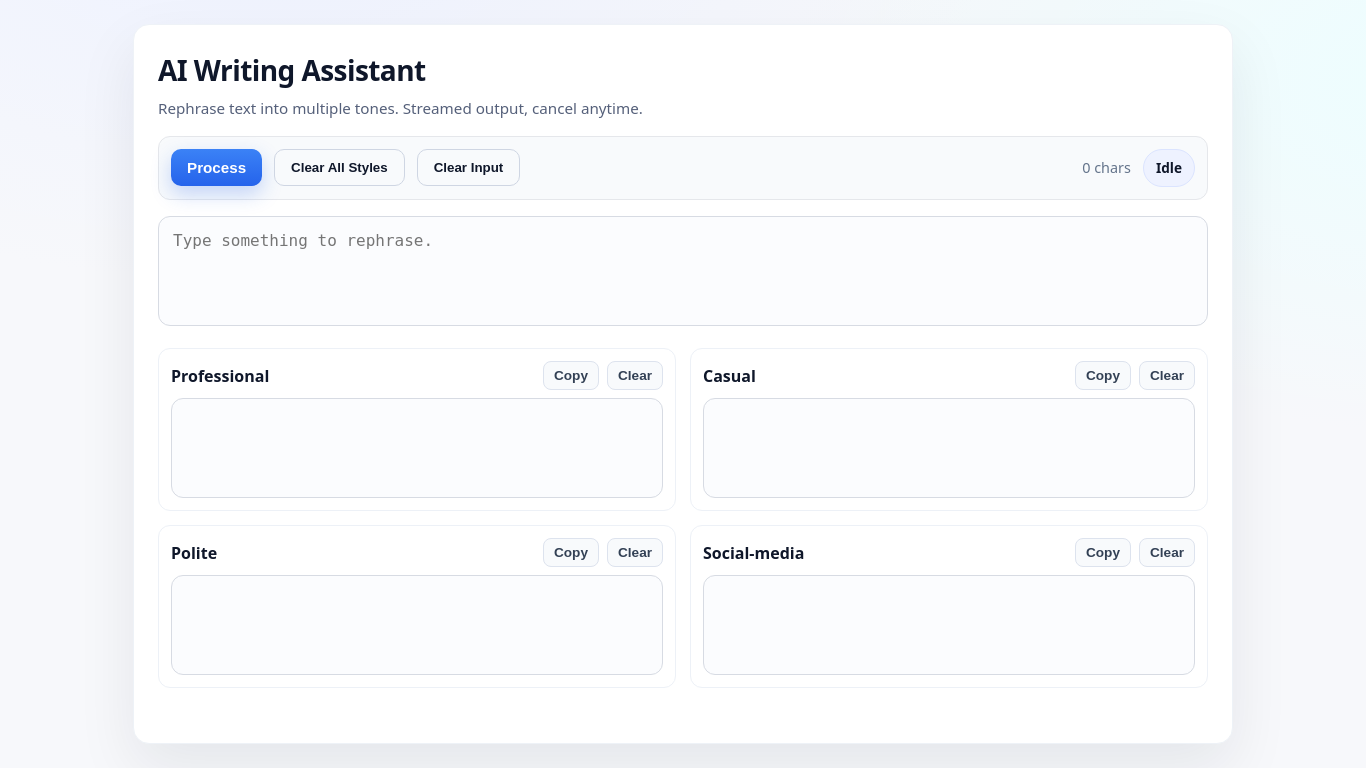
Test: shows Streaming…, exposes Cancel, then returns to Idle on cancel (and closes EventSource)
Type "Hello world" into the text box with placeholder "Type something to rephrase." at (683, 271), box top-left (158, 216), bottom-right (1208, 326)
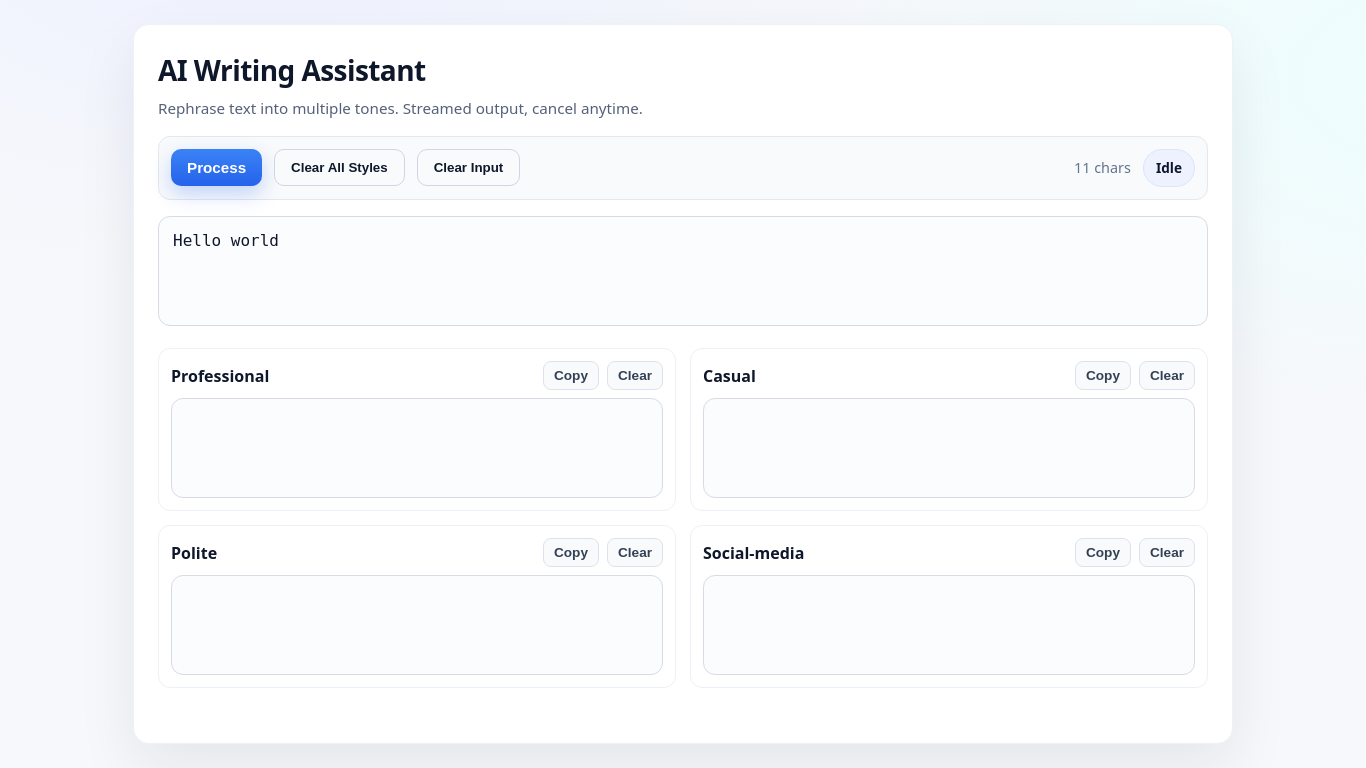
Click the button "Process" at (217, 168), box top-left (171, 150), bottom-right (262, 186)
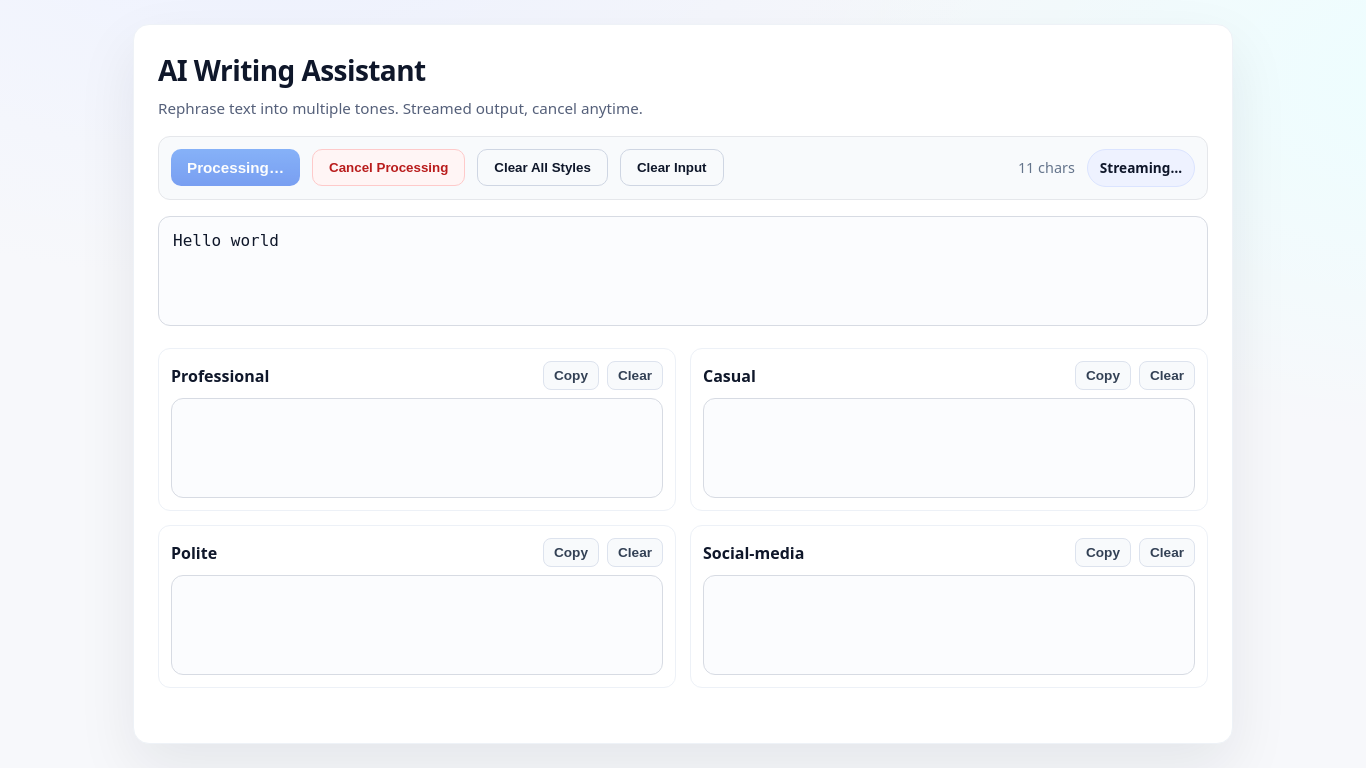
Result: the text "Streaming…" is shown at top-left (1087, 149), bottom-right (1195, 187)
Result: the button "Cancel Processing" is shown
# cancel - the component closes the ES and flips to Idle
Click the button "Cancel Processing" at (389, 168), box top-left (312, 150), bottom-right (465, 186)
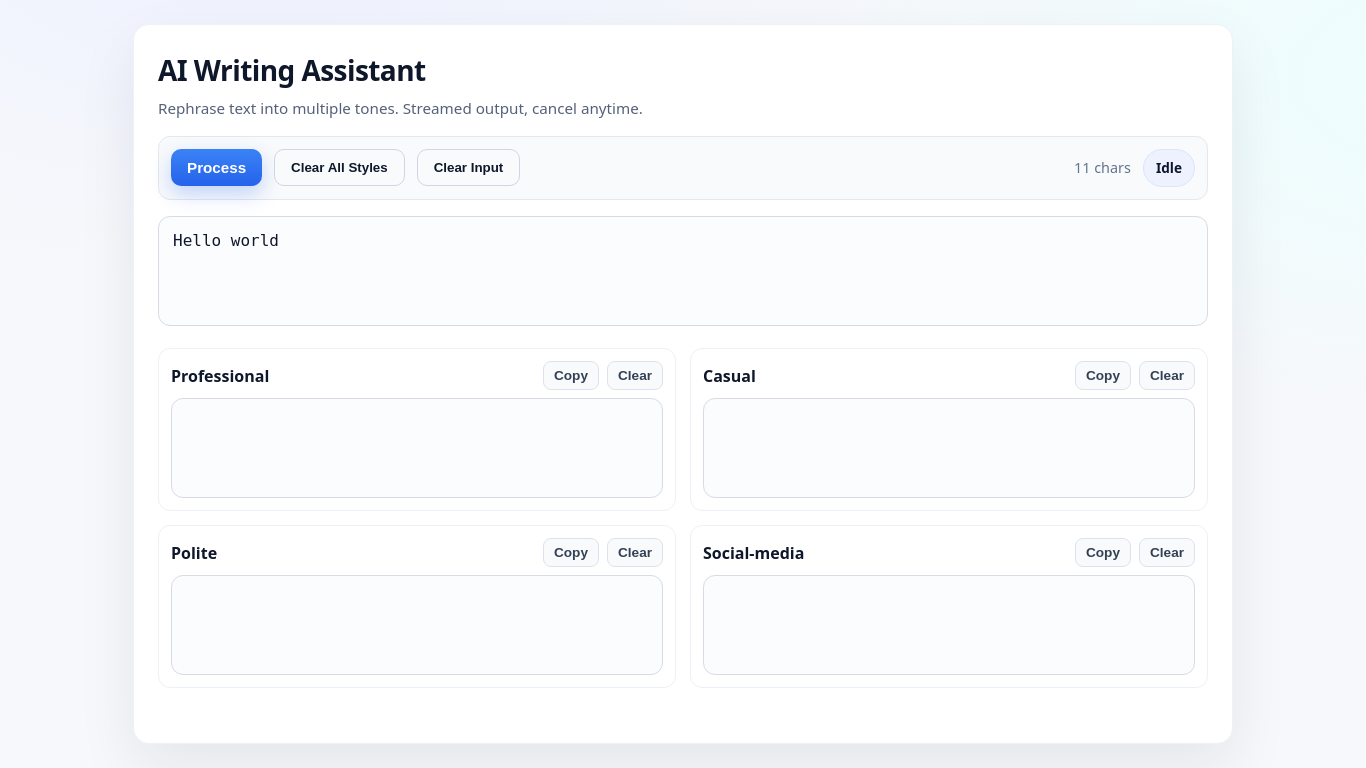
Result: the text "Idle" is shown at top-left (1143, 149), bottom-right (1195, 187)
